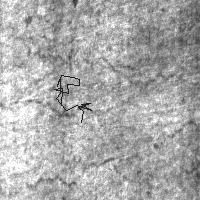crazing: (1, 48, 162, 116), (23, 134, 123, 186), (54, 75, 91, 122)
